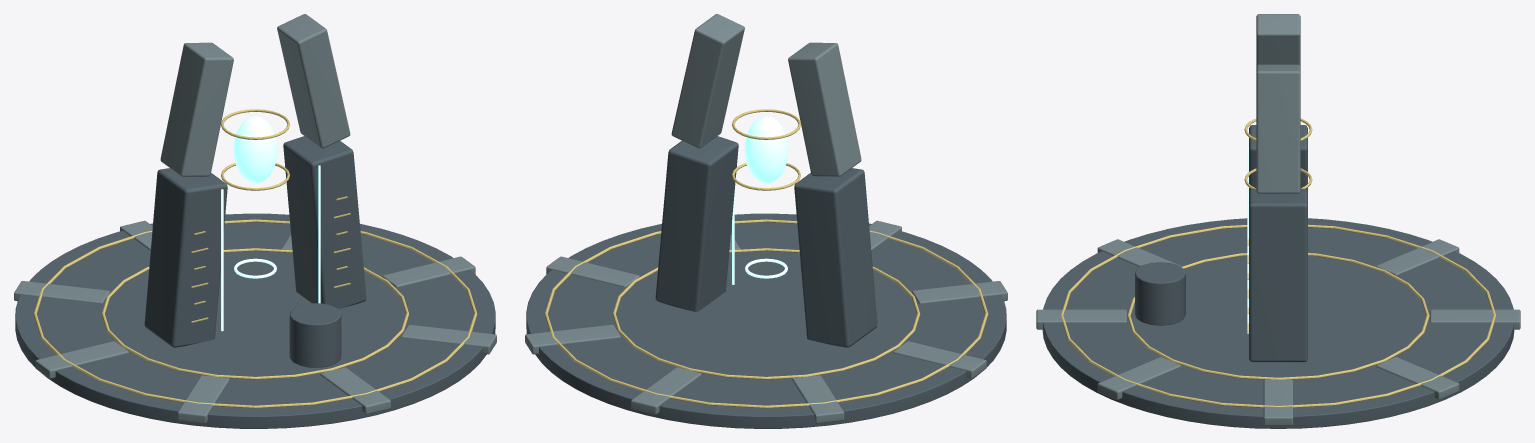
File: beacon.glb
The picture shows the model from 3 angles, left to right: view 1: azimuth 30°, elevation 25°; view 2: azimuth 150°, elevation 25°; view 3: azimuth 270°, elevation 25°; orthographic projection.
Parts seen in each view (by area): view 1: Observatory foundation, Monolith lower, Monolith lower.001, Monolith crown, Monolith crown.001, Activation plinth, Inlaid orbit.001, Suspended heart, Inlaid orbit, Radial step.006, Radial step.005, Radial step.004 (+5 smaller); view 2: Observatory foundation, Monolith lower, Monolith lower.001, Monolith crown, Monolith crown.001, Inlaid orbit.001, Suspended heart, Inlaid orbit, Radial step.002, Radial step.003, Radial step.004, Radial step.001 (+4 smaller); view 3: Observatory foundation, Monolith lower.001, Monolith crown.001, Inlaid orbit.001, Activation plinth, Monolith crown, Inlaid orbit, Radial step, Radial step.001, Radial step.007, Radial step.002, Radial step.006 (+3 smaller).
Boxes of the visible parts, <box> form: Observatory foundation: <box>15,213,495,428</box>; Monolith lower: <box>144,168,227,347</box>; Monolith lower.001: <box>283,136,366,308</box>; Monolith crown: <box>160,42,233,176</box>; Monolith crown.001: <box>277,14,350,148</box>; Activation plinth: <box>289,303,341,367</box>; Inlaid orbit.001: <box>33,219,477,408</box>; Suspended heart: <box>233,116,277,183</box>; Inlaid orbit: <box>101,248,409,379</box>; Radial step.006: <box>320,367,390,414</box>; Radial step.005: <box>177,375,229,423</box>; Radial step.004: <box>35,341,128,378</box>; Observatory foundation: <box>526,213,1006,428</box>; Monolith lower: <box>794,168,877,347</box>; Monolith lower.001: <box>655,136,738,311</box>; Monolith crown: <box>788,42,861,176</box>; Monolith crown.001: <box>671,14,744,148</box>; Inlaid orbit.001: <box>544,219,988,408</box>; Suspended heart: <box>744,116,788,183</box>; Inlaid orbit: <box>612,248,920,379</box>; Radial step.002: <box>631,367,701,414</box>; Radial step.003: <box>792,375,844,423</box>; Radial step.004: <box>893,341,986,378</box>; Radial step.001: <box>525,324,620,354</box>; Observatory foundation: <box>1042,218,1514,428</box>; Monolith lower.001: <box>1249,188,1307,362</box>; Monolith crown.001: <box>1256,64,1300,193</box>; Inlaid orbit.001: <box>1061,224,1495,407</box>; Activation plinth: <box>1135,262,1185,325</box>; Monolith crown: <box>1256,14,1300,66</box>; Inlaid orbit: <box>1127,253,1429,379</box>; Radial step: <box>1263,379,1293,425</box>; Radial step.001: <box>1376,357,1459,399</box>; Radial step.007: <box>1097,357,1180,399</box>; Radial step.002: <box>1430,309,1520,329</box>; Radial step.006: <box>1036,309,1126,329</box>.
Size of the model in its own units: 12.3 by 8.04 by 12.3.
